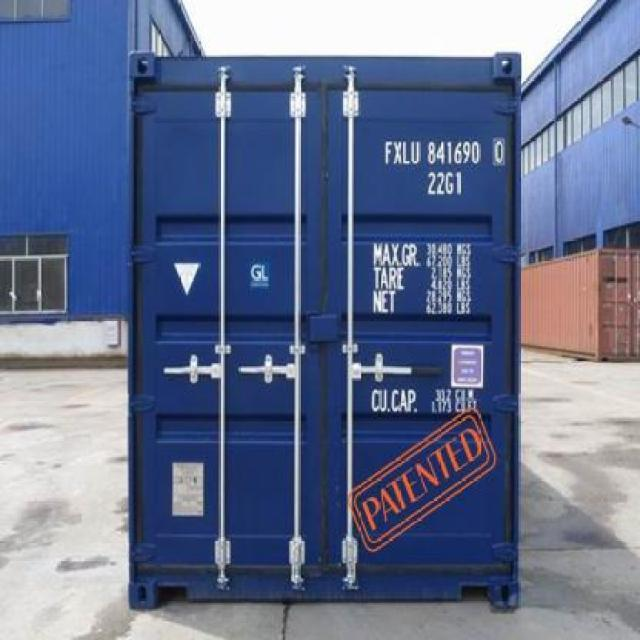ISO: (424, 172, 464, 196)
container_number: (386, 140, 512, 165)
